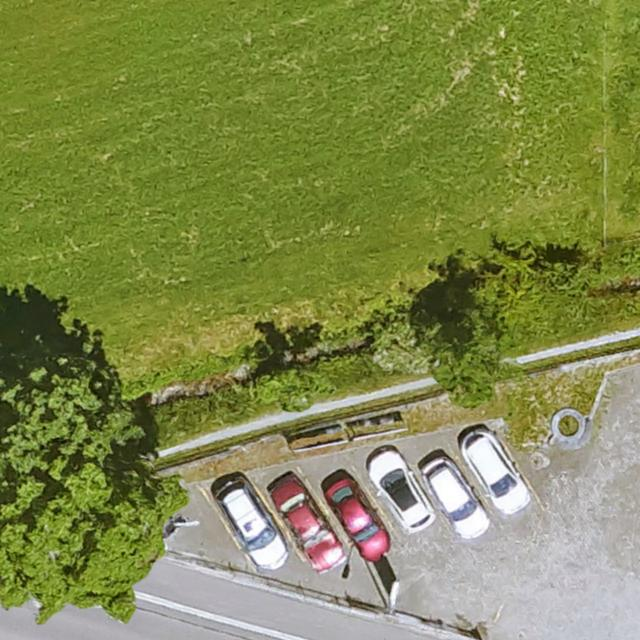tree: (0, 359, 190, 624), (471, 262, 585, 337), (431, 327, 503, 409)
